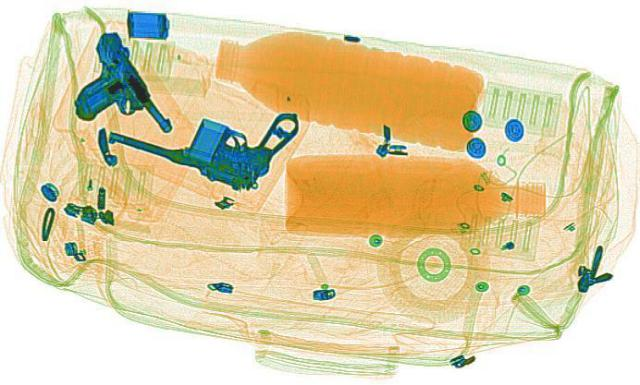Gun: (95, 72, 322, 192), (28, 27, 184, 144)
